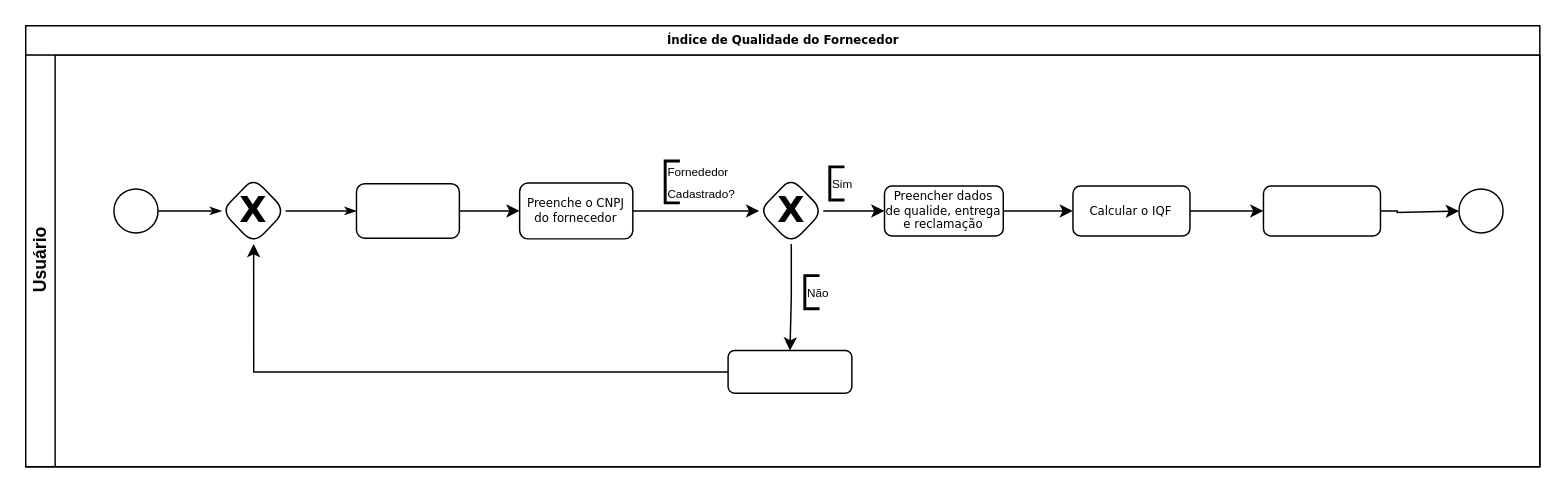
Some shapes in this 1566 by 492 pixel diagram are drawn without their labels. The centre of each missing label's shape, as x and y in pixels:
Acessa a págiona de avaliação: the point at 407,210
Gravar os dados: the point at 1321,210
Preencher os dados do fornecedor: the point at 789,371
